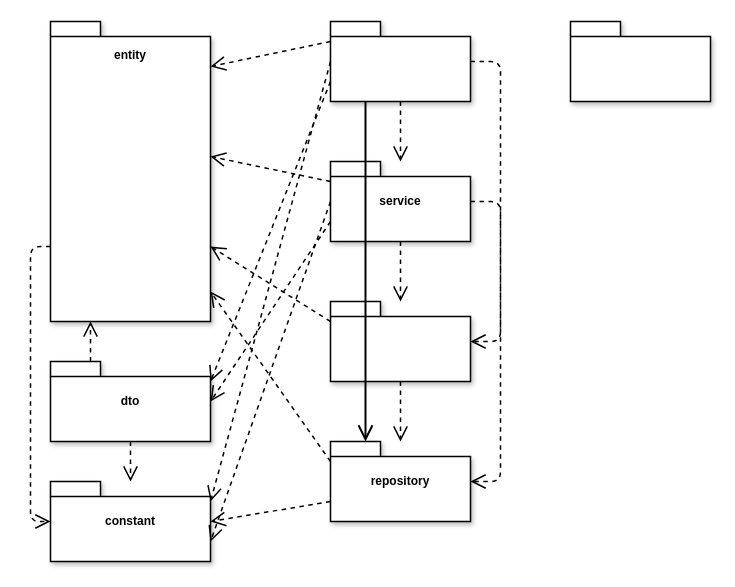
Some shapes in this 735 by 587 pixel diagram are drawn without their labels. Each missing label, with the centre of its shape:
"configuration" belongs at (641,62).
"controller" belongs at (401,62).
"security" belongs at (401,342).
